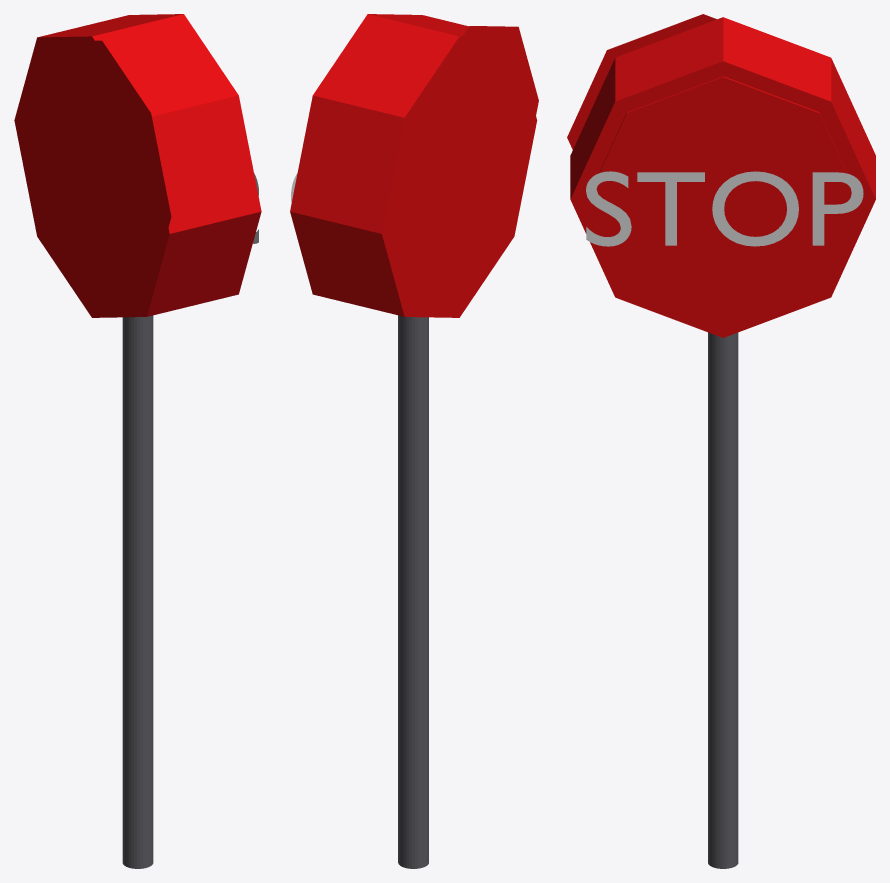
3 views of the same model, side by side, from view 1: azimuth 30°, elevation 25°; view 2: azimuth 150°, elevation 25°; view 3: azimuth 270°, elevation 25° (orthographic).
Parts seen in each view (by area): view 1: Cylinder.001; view 2: Cylinder.001; view 3: Cylinder.001, Text.
Part boxes in pixels (<box>): Cylinder.001: <box>14,14,261,868</box>; Cylinder.001: <box>290,14,538,868</box>; Cylinder.001: <box>567,14,875,868</box>; Text: <box>586,171,863,246</box>.
Size of the model in its own units: 7.23 by 59.7 by 20.22.
